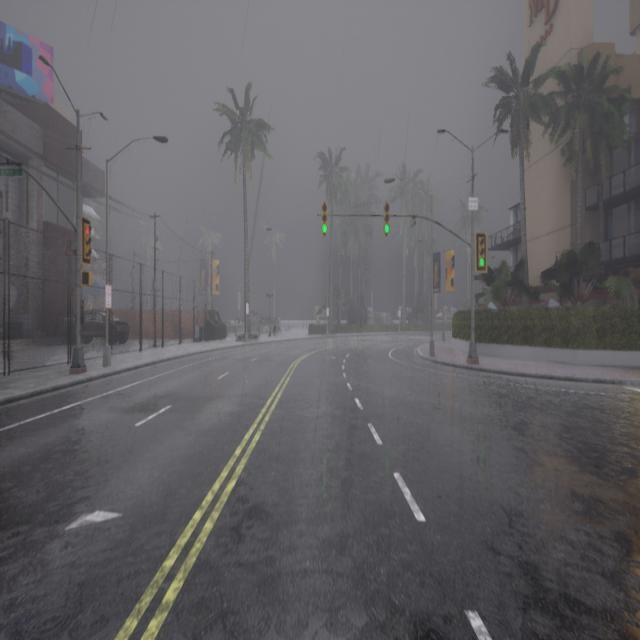bien_chi_dan: (81, 216, 92, 264), (476, 233, 486, 271), (383, 202, 391, 236), (321, 201, 328, 236), (84, 222, 91, 236), (384, 221, 391, 234), (478, 255, 485, 268), (321, 223, 328, 235)
